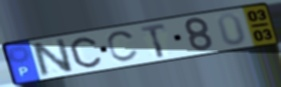0: (216, 12, 248, 47)
8: (184, 16, 214, 54)
C: (105, 29, 140, 64), (68, 36, 104, 69)
N: (29, 36, 76, 79)
T: (139, 22, 168, 59)
